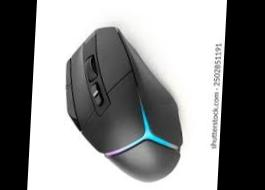mouse: (59, 25, 189, 180)
